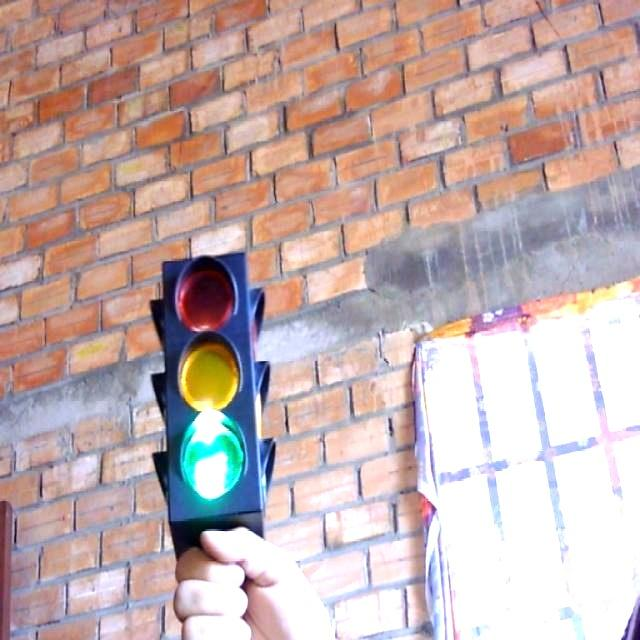Green: (146, 238, 288, 540)
